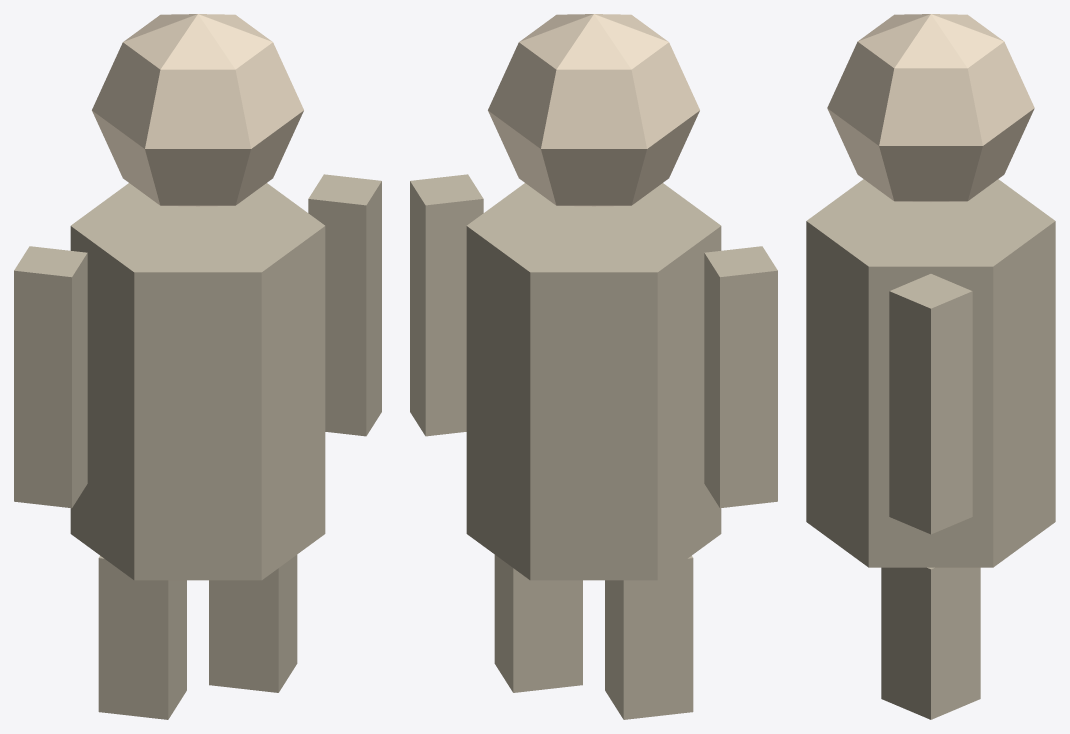
Rendered from weaver.glb.
3 renders of one model, left to right at view 1: azimuth 30°, elevation 25°; view 2: azimuth 150°, elevation 25°; view 3: azimuth 270°, elevation 25°, orthographic. The views are drawn at different scales.
Parts seen in each view (by area): view 1: weaver_torso, weaver_head, weaver_arm_l, weaver_arm_r, weaver_leg_l, weaver_leg_r; view 2: weaver_torso, weaver_head, weaver_arm_l, weaver_arm_r, weaver_leg_l, weaver_leg_r; view 3: weaver_torso, weaver_head, weaver_arm_r, weaver_leg_r.
Boxes of the visible parts, box(x1,y1,x2,y2) form: weaver_torso: box(70, 183, 325, 580); weaver_head: box(92, 14, 303, 206); weaver_arm_l: box(14, 246, 87, 508); weaver_arm_r: box(308, 174, 381, 436); weaver_leg_l: box(98, 555, 186, 719); weaver_leg_r: box(209, 555, 297, 692); weaver_torso: box(466, 183, 721, 580); weaver_head: box(488, 14, 699, 206); weaver_arm_l: box(704, 246, 777, 508); weaver_arm_r: box(410, 174, 483, 436); weaver_leg_l: box(605, 555, 693, 719); weaver_leg_r: box(494, 555, 582, 692); weaver_torso: box(806, 179, 1055, 567); weaver_head: box(827, 14, 1034, 201); weaver_arm_r: box(889, 274, 972, 534); weaver_leg_r: box(881, 567, 980, 719).
Bounding box in the file's own units: 0.375 × 0.6562 × 0.225.
